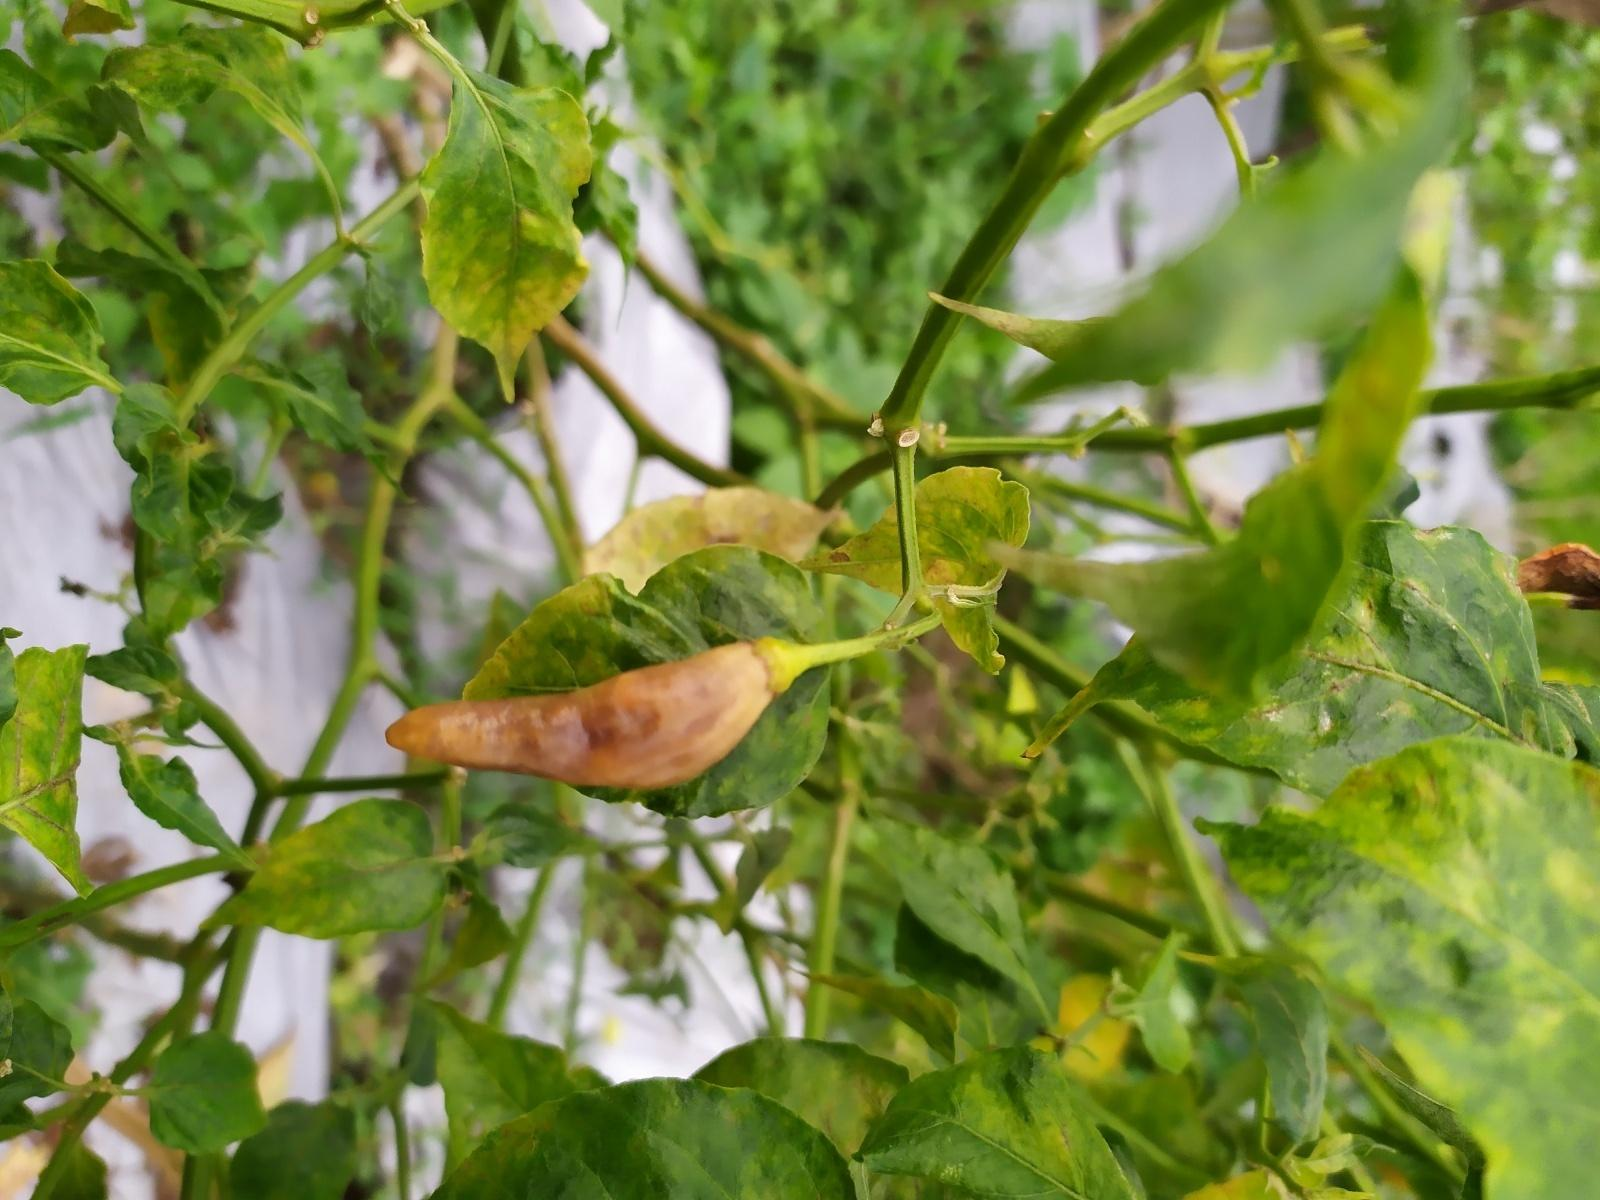lalat_buah: (386, 642, 782, 793)
